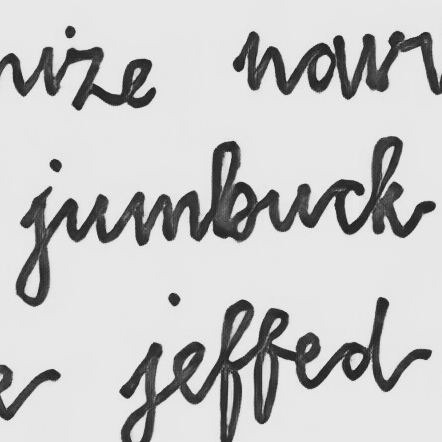b: (205, 137, 262, 243)
c: (331, 175, 366, 238)
j: (10, 183, 56, 309)
k: (368, 133, 408, 239)
m: (128, 185, 202, 249)
u: (62, 189, 110, 245), (265, 180, 313, 234)
